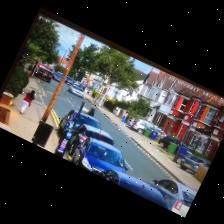person: (20, 91, 34, 114), (121, 112, 128, 123), (88, 108, 94, 116)
